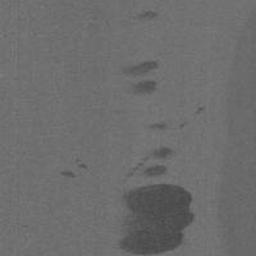Oil spot: (113, 182, 197, 256), (125, 145, 179, 179), (122, 58, 160, 99), (132, 9, 159, 23), (143, 120, 169, 132), (59, 170, 78, 180), (74, 157, 88, 169), (193, 105, 207, 116), (178, 119, 189, 131), (20, 223, 31, 229)
